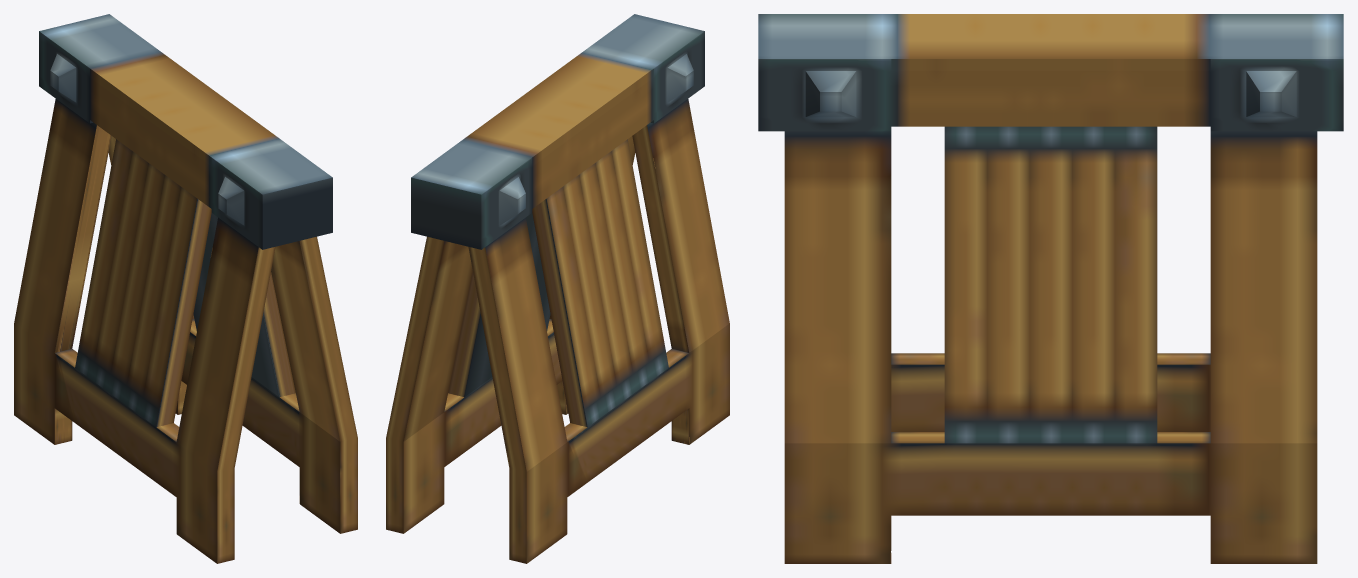
File: Poly_Barricade_01.obj
3 renders of one model, left to right at view 1: azimuth 30°, elevation 25°; view 2: azimuth 150°, elevation 25°; view 3: azimuth 270°, elevation 25°, orthographic. The views are drawn at different scales.
Visible parts, largest first — view 1: Cube, Cube.001; view 2: Cube, Cube.001; view 3: Cube, Cube.001.
Part boxes in pixels (x1,y1,x2,y2): Cube: [14, 99, 357, 563]; Cube.001: [39, 14, 332, 249]; Cube: [386, 99, 729, 563]; Cube.001: [411, 14, 704, 249]; Cube: [784, 126, 1317, 563]; Cube.001: [758, 14, 1343, 131].
Bounding box in the file's own units: 0.2952 × 0.738 × 0.8119.
Materials: 1 (1 with a texture image).
